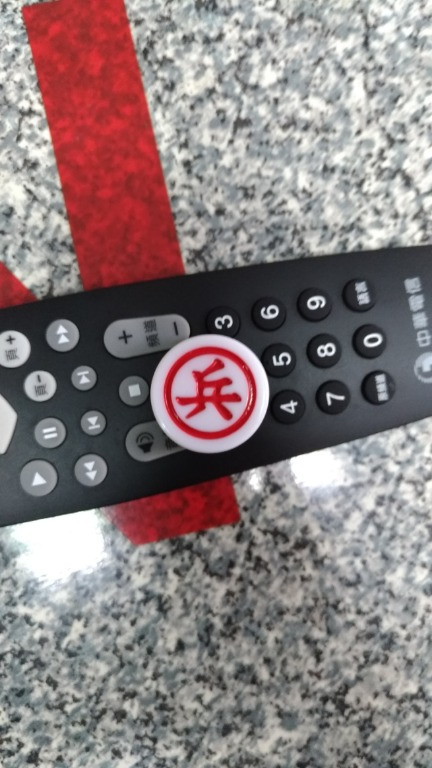r-pawn: (143, 333, 275, 459)
